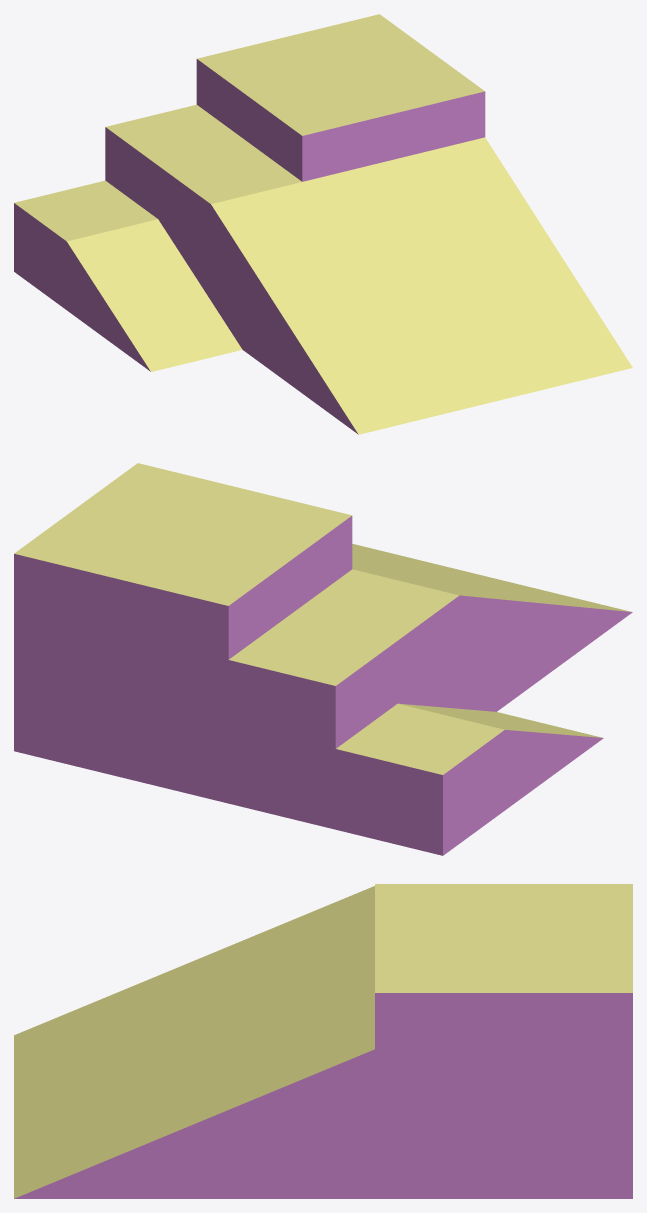
File: MeleePlatform.fbx
3 renders of one model, top to bottom at view 1: azimuth 30°, elevation 25°; view 2: azimuth 150°, elevation 25°; view 3: azimuth 270°, elevation 25°, orthographic. The views are drawn at different scales.
Parts seen in each view (by area): view 1: MeleeCombatPlatform; view 2: MeleeCombatPlatform; view 3: MeleeCombatPlatform.
Boxes of the visible parts, box(x1,y1,x2,y2) form: MeleeCombatPlatform: box(14, 14, 632, 434); MeleeCombatPlatform: box(14, 463, 632, 855); MeleeCombatPlatform: box(14, 884, 632, 1198).
Bounding box in the file's own units: 10 × 4.4 × 12.
